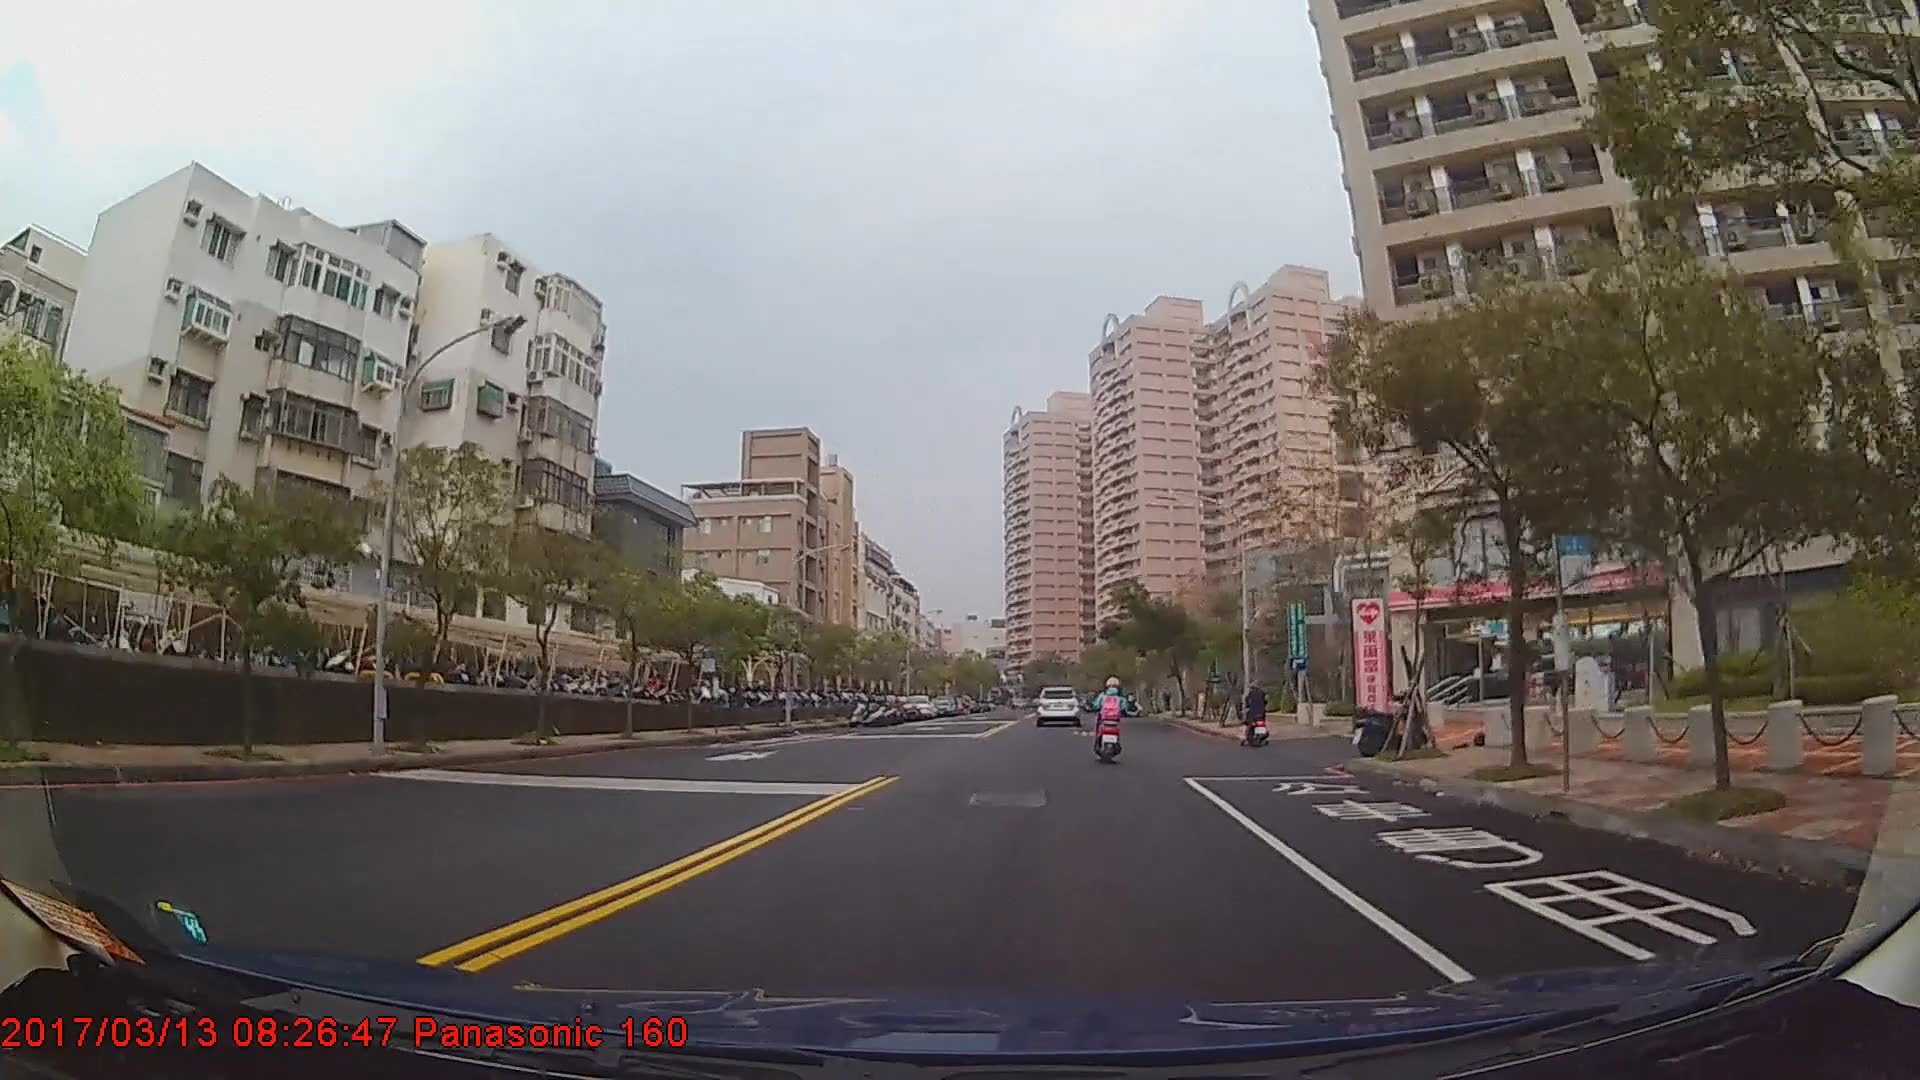rider: (1090, 677, 1131, 762), (1240, 681, 1270, 749)
vehicle: (1031, 686, 1082, 728), (899, 696, 934, 722)
